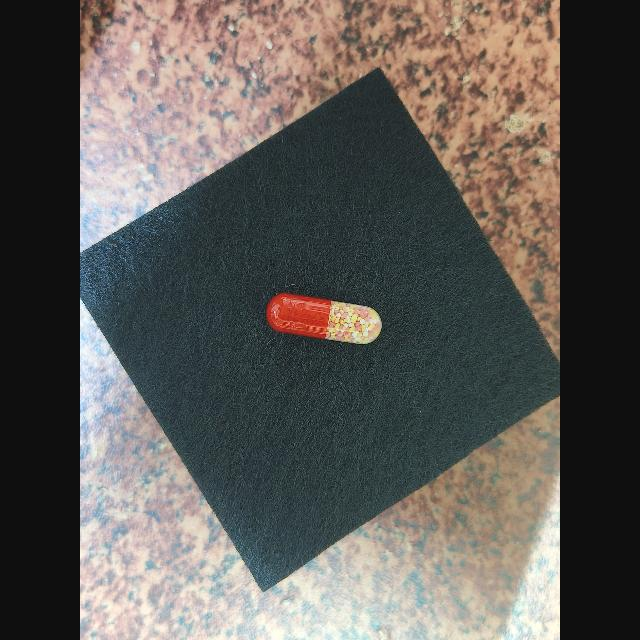Intact Capsule: (266, 293, 382, 344)
